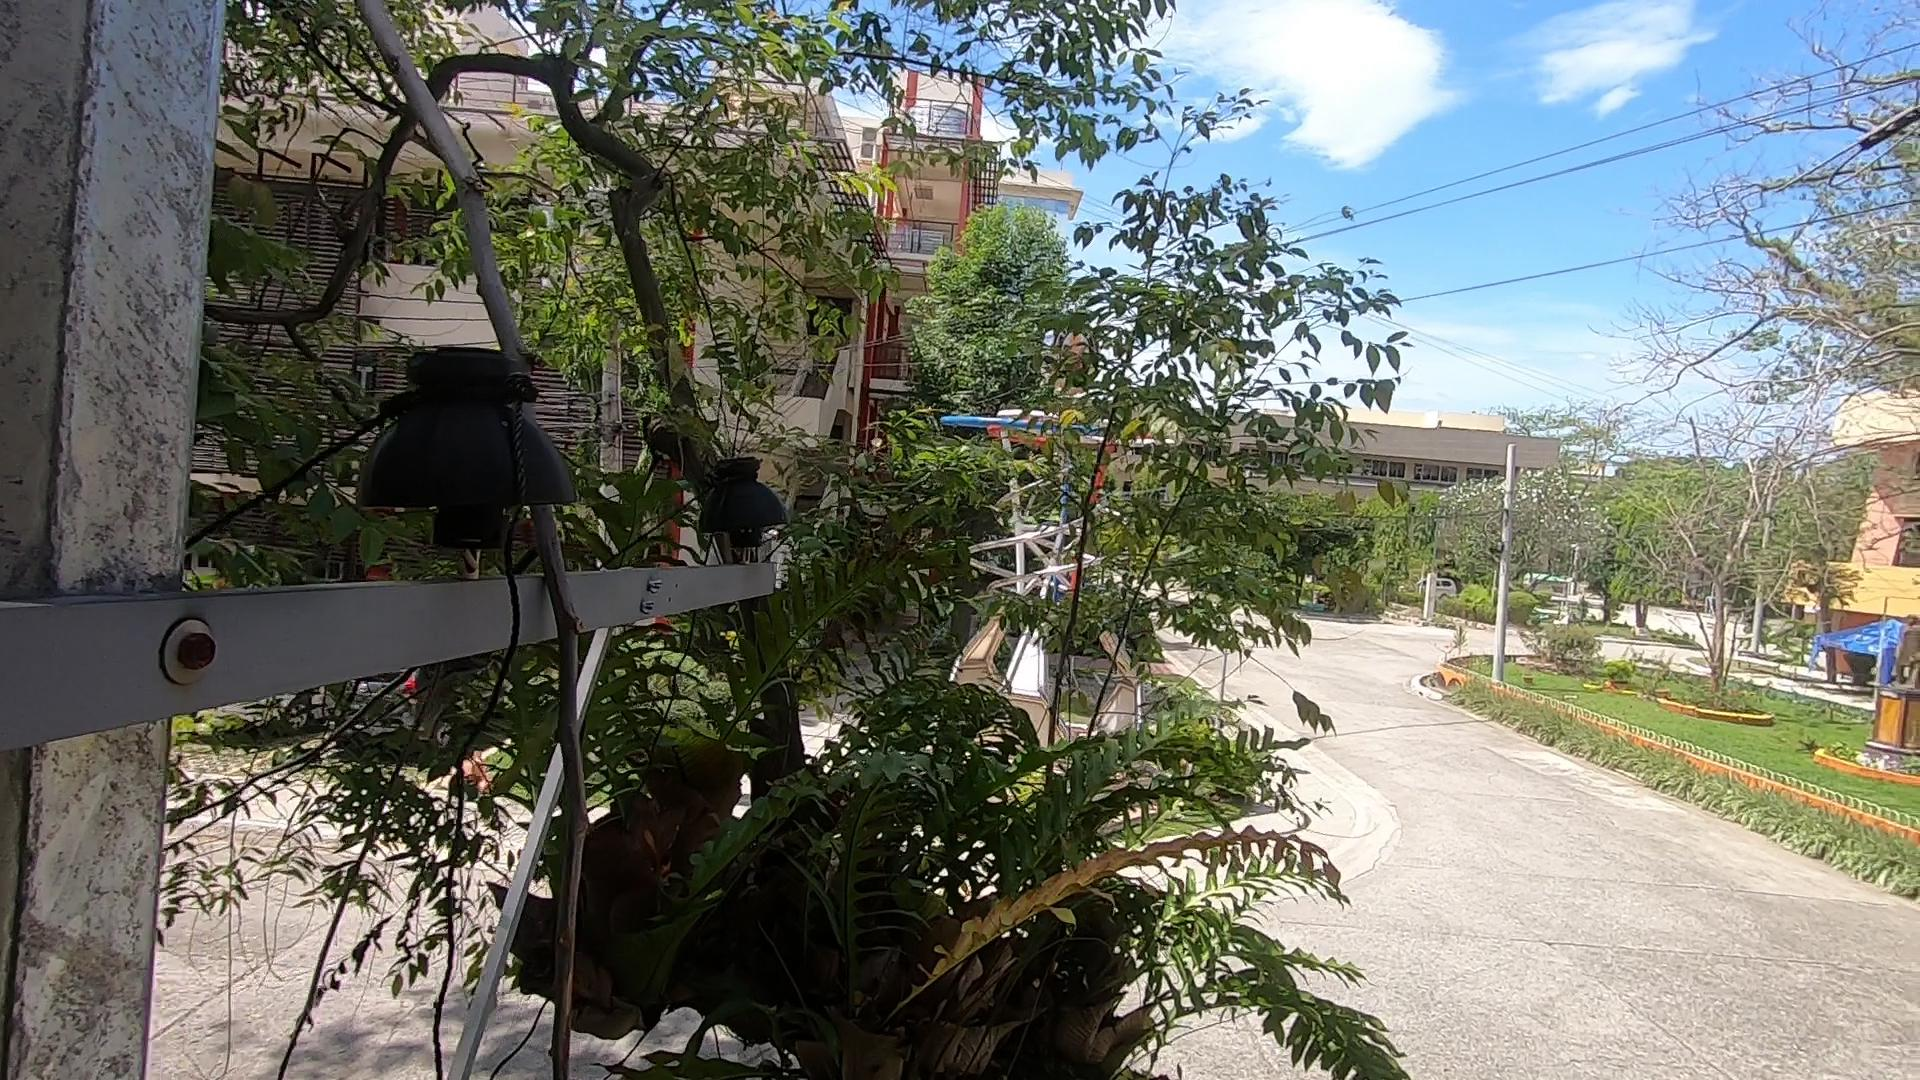tree branch: (315, 9, 659, 1080)
